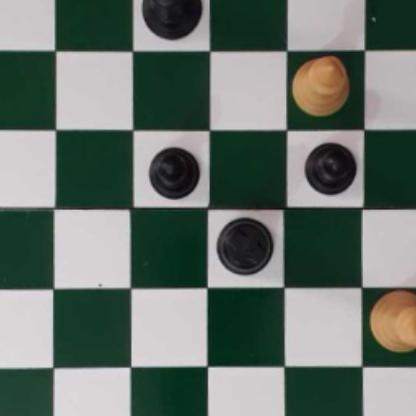black-king: (140, 0, 203, 42)
black-pawn: (146, 144, 201, 200), (304, 138, 356, 197)
black-rook: (218, 218, 273, 276)
white-bishop: (294, 53, 348, 117)
white-king: (366, 291, 416, 353)
